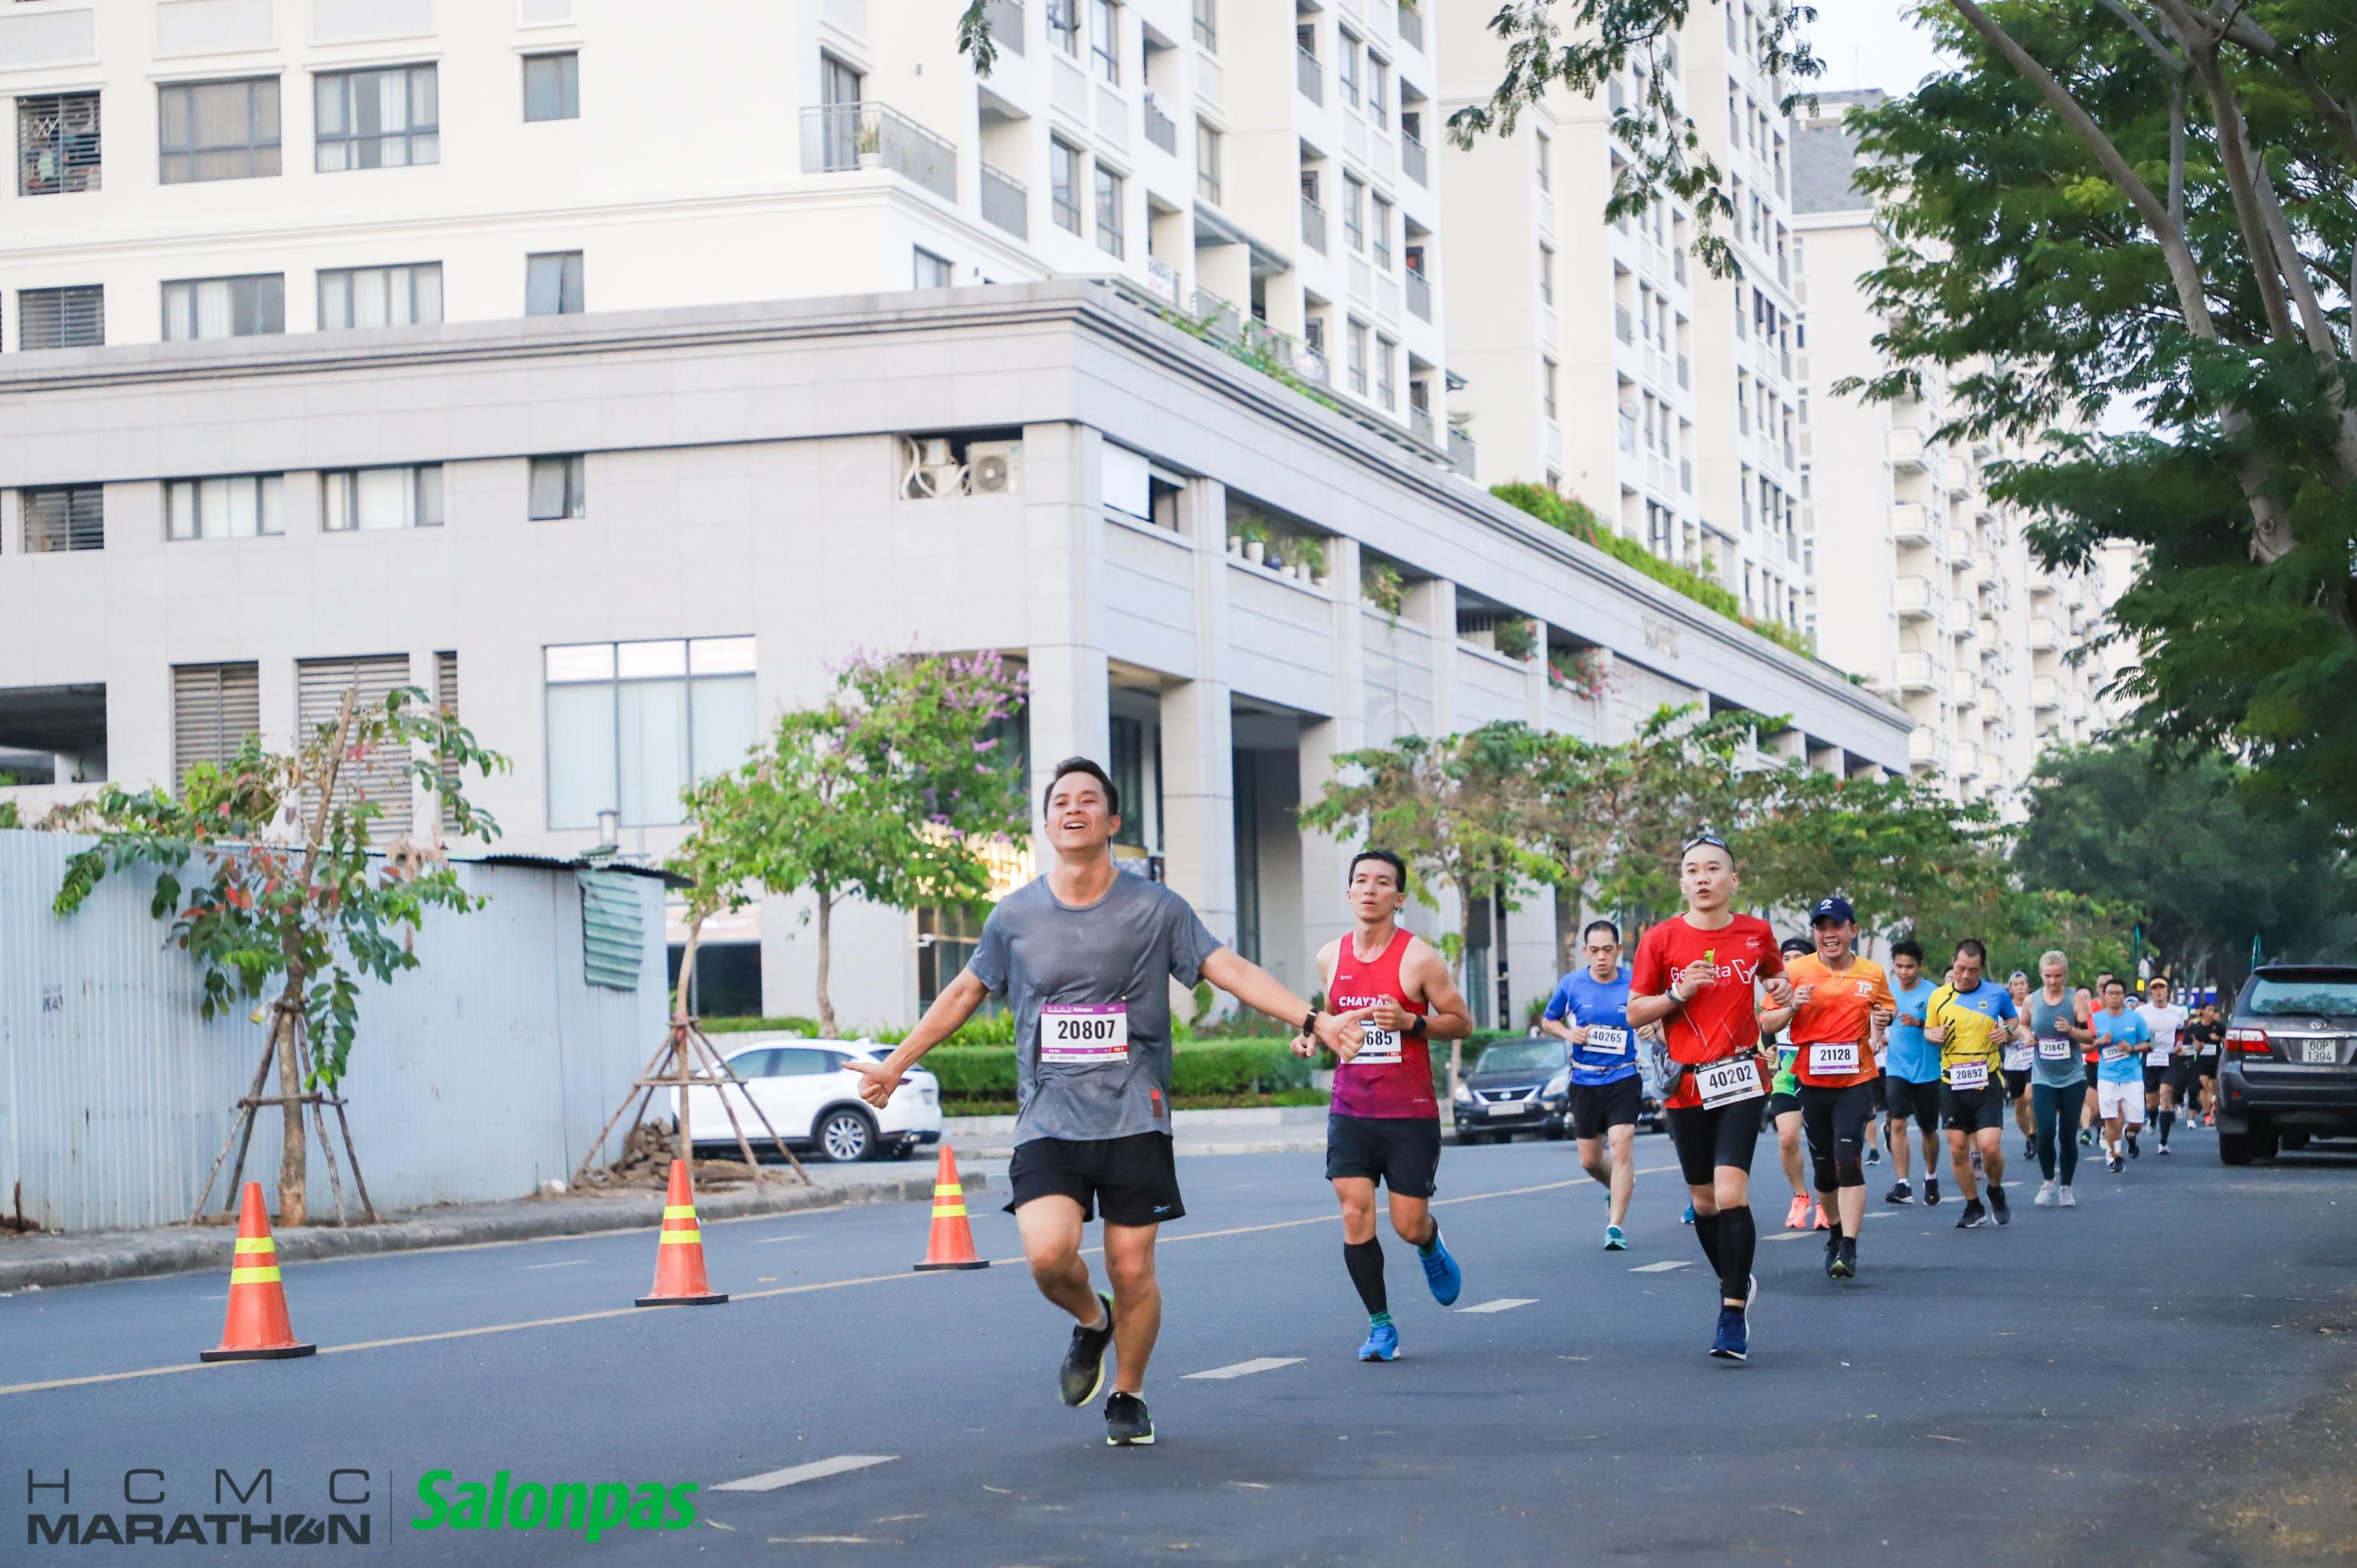bib: (1039, 1001, 1134, 1064), (1696, 1057, 1764, 1108), (1354, 1018, 1402, 1066), (1808, 1039, 1860, 1074), (1580, 1024, 1627, 1057), (1949, 1066, 1990, 1087), (2037, 1039, 2072, 1059), (2103, 1043, 2130, 1059), (2147, 1052, 2170, 1066), (2198, 1045, 2217, 1057)
